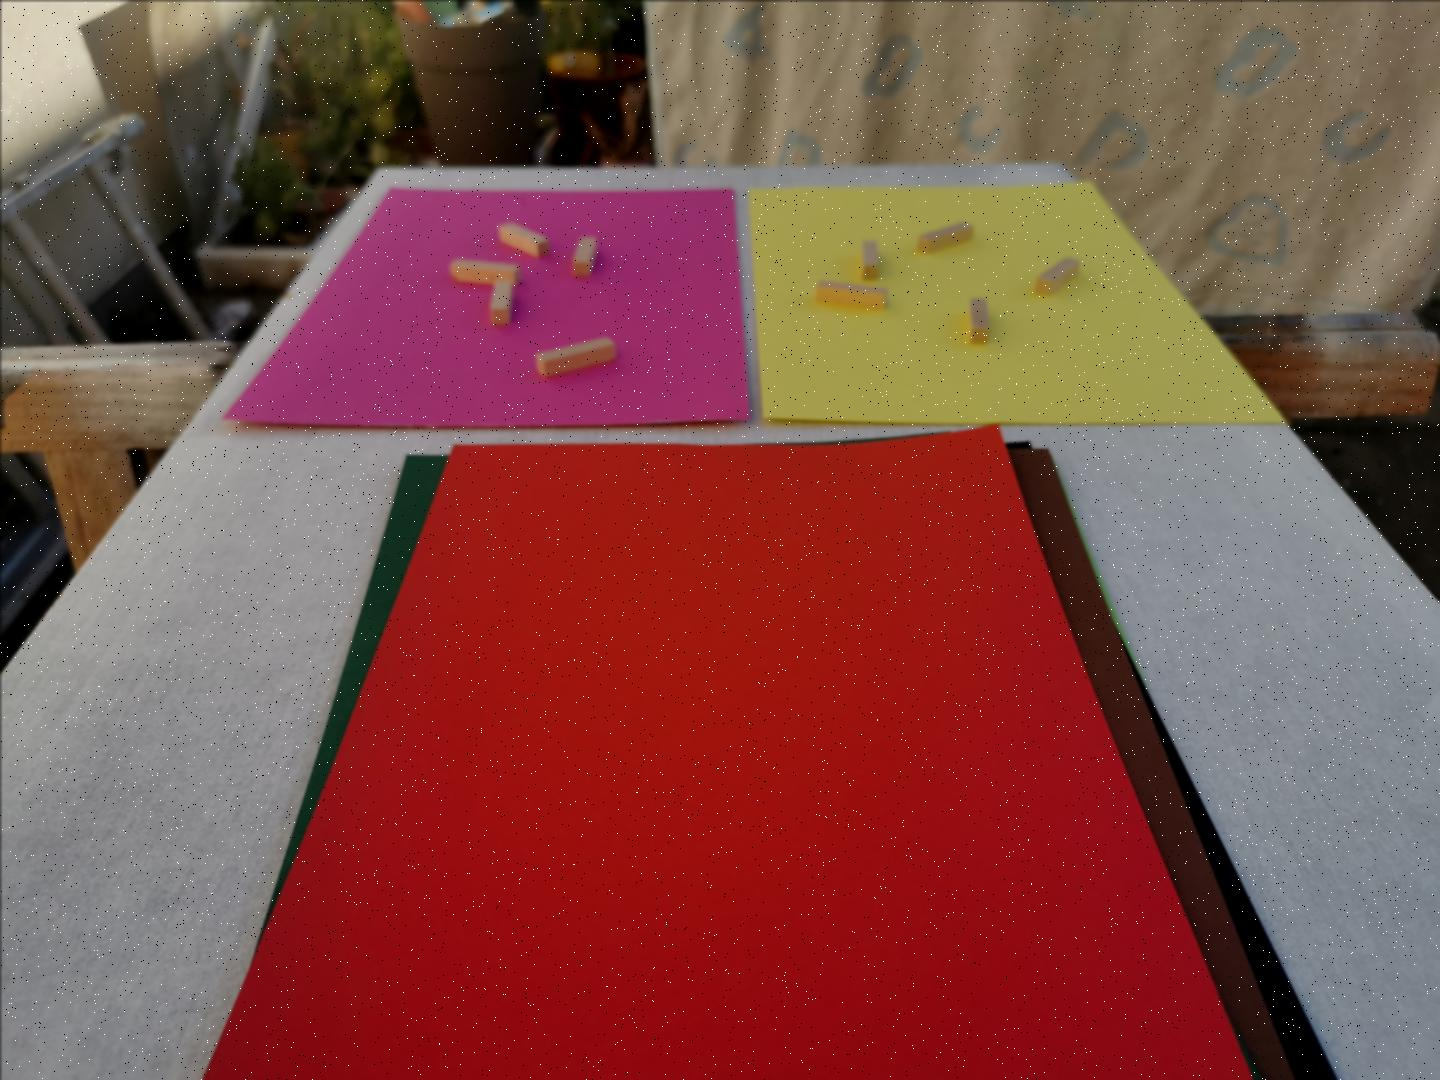jenga: (534, 338, 616, 377), (815, 281, 886, 310), (447, 259, 520, 284), (1032, 256, 1077, 295), (498, 222, 549, 256), (917, 222, 973, 253), (490, 278, 515, 327), (571, 236, 596, 276), (967, 298, 988, 343), (861, 239, 878, 281)
